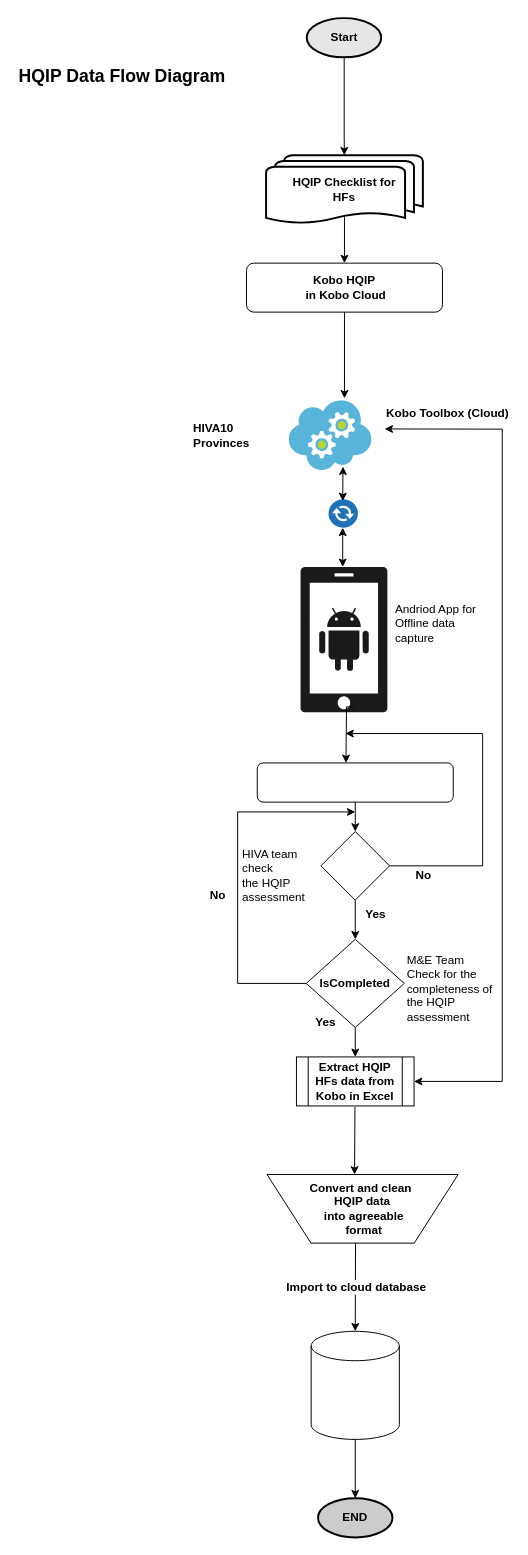
The diagram is 528 pixels wide and 1555 high, and some of its shapes have lost their labels. Each missing label, with the box of its shape:
Clinical Mentors preform the assessment: (256, 762, 453, 802)
Cloud database for HIVA project: (310, 1330, 399, 1439)
IsCorrect?: (320, 831, 390, 900)
